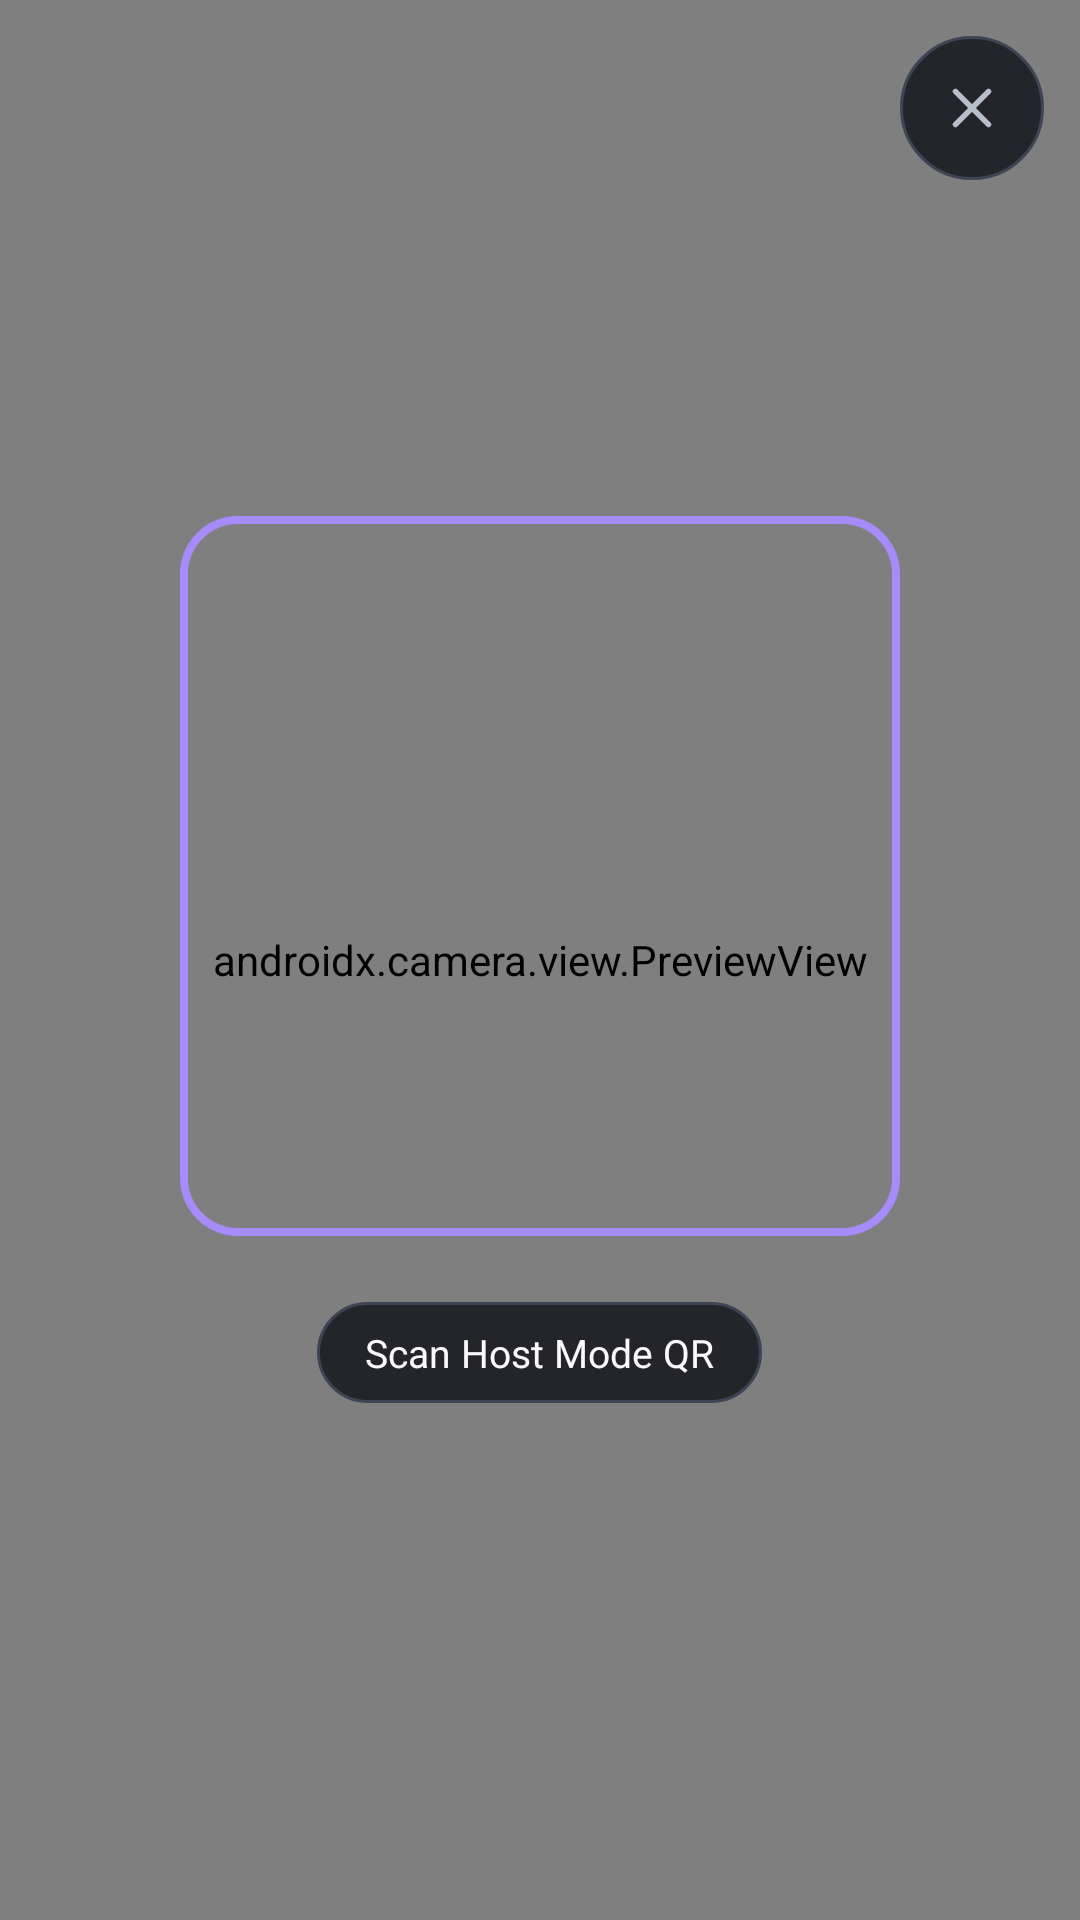

Locate icon controls on the screen. Image size 1080×1920, boxes as (x1, y1, x2, y2).
Close: (900, 36, 1044, 180)
